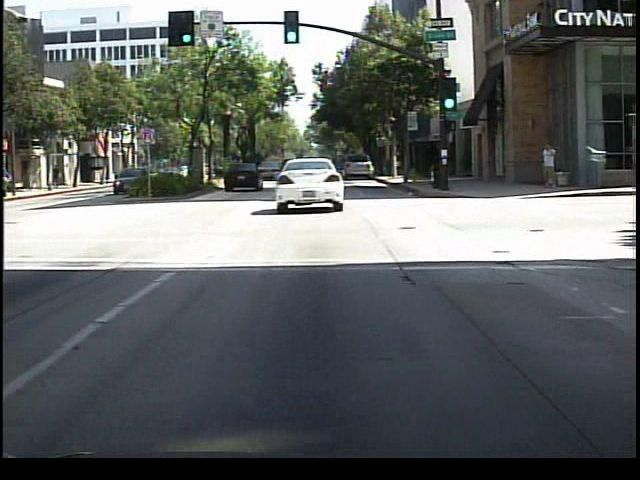person: (538, 139, 562, 193), (50, 161, 65, 195)
